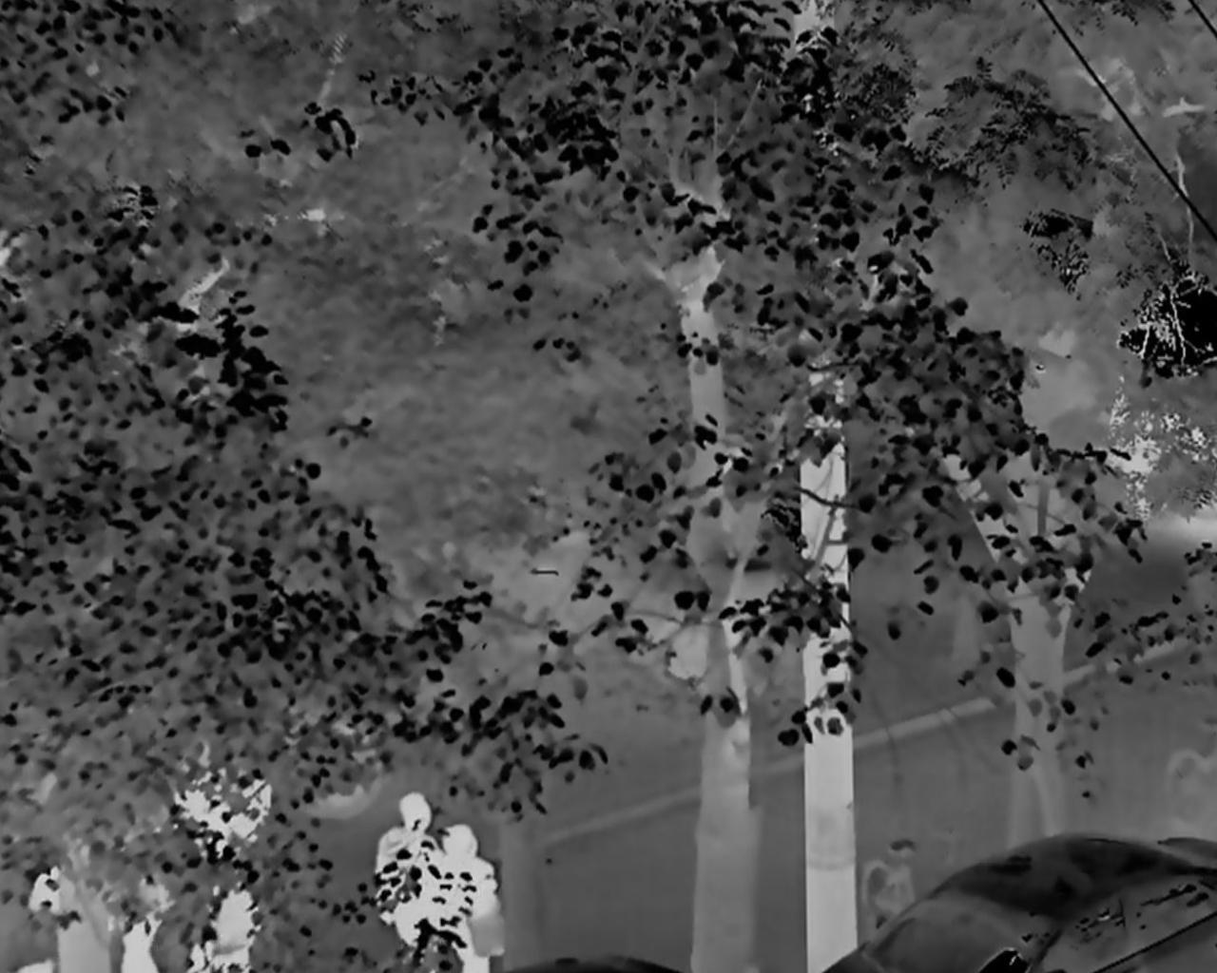person: (429, 823, 503, 973), (378, 794, 439, 949)
